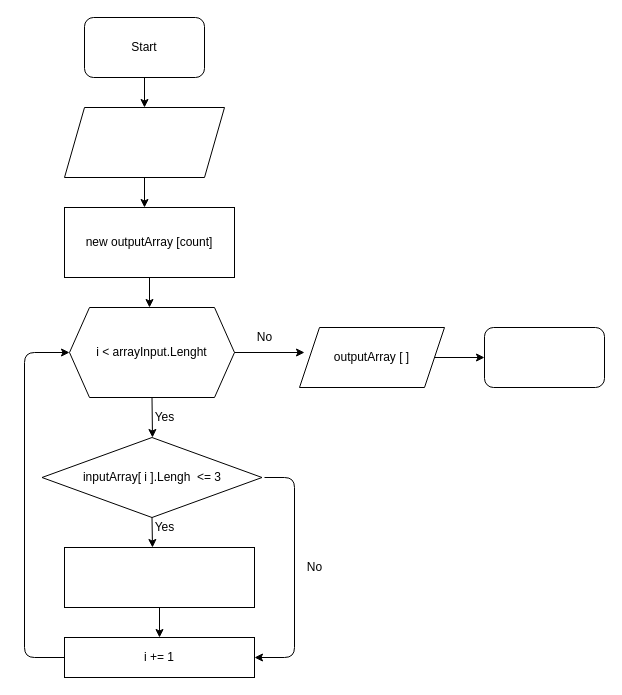
This 622x695 diagram has some shape labels left out. The centre of each missing label's shape, as x and y in pixels:
count inputArray [ ] i = 0 k = 0: the point at 144,142
Finish: the point at 544,357
outputArray[k] = inputArray[ i ] k += 1: the point at 159,577
